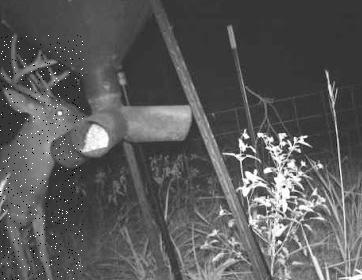Deer: (0, 33, 84, 280)
